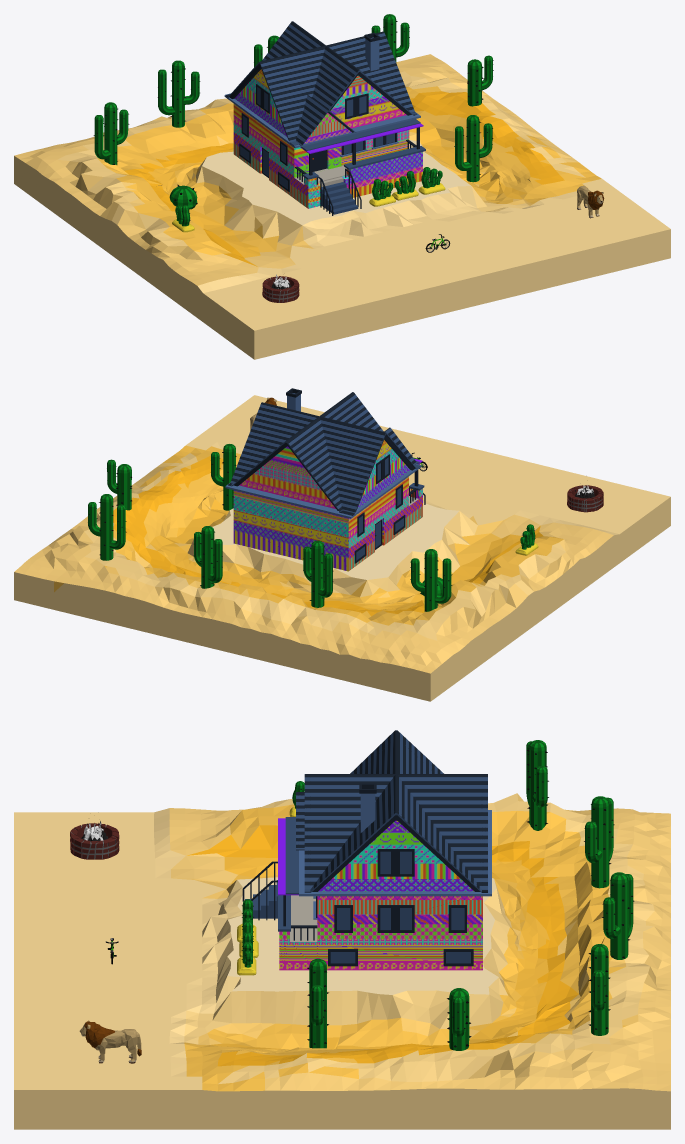
3 views of the same model, one above another, from view 1: azimuth 30°, elevation 25°; view 2: azimuth 150°, elevation 25°; view 3: azimuth 270°, elevation 25° (orthographic). The views are drawn at different scales.
Parts seen in each view (by area): view 1: Cube.001, Cube.676, Cylinder.037, Cylinder.044, Cylinder.045, Cylinder.038, OBJRANDOM_CAMPFIRE, Cylinder.042, ANIMAL_LEON, Cylinder.039, Cylinder.041, Sphere.023 (+1 smaller); view 2: Cube.001, Cube.676, Cylinder.042, Cylinder.045, Cylinder.044, Cylinder.043, Cylinder.037, Cylinder.038, OBJRANDOM_CAMPFIRE; view 3: Cube.001, Cube.676, Cylinder.043, Cylinder.044, Cylinder.045, Cylinder.042, OBJRANDOM_CAMPFIRE, Cylinder.037, ANIMAL_LEON, Cylinder.038, Cylinder.041.
Boxes of the visible parts, left/top/right/bottom form: Cube.001: left=14, top=54, right=670, bottom=359; Cube.676: left=224, top=21, right=425, bottom=215; Cylinder.037: left=454, top=115, right=493, bottom=182; Cylinder.044: left=157, top=60, right=200, bottom=127; Cylinder.045: left=93, top=102, right=129, bottom=164; Cylinder.038: left=467, top=55, right=493, bottom=106; OBJRANDOM_CAMPFIRE: left=262, top=274, right=299, bottom=302; Cylinder.042: left=371, top=14, right=409, bottom=62; ANIMAL_LEON: left=577, top=185, right=604, bottom=218; Cylinder.039: left=369, top=179, right=395, bottom=206; Cylinder.041: left=418, top=167, right=445, bottom=194; Sphere.023: left=169, top=184, right=197, bottom=209; Cube.001: left=14, top=395, right=670, bottom=701; Cube.676: left=225, top=388, right=425, bottom=571; Cylinder.042: left=88, top=494, right=126, bottom=560; Cylinder.045: left=410, top=549, right=452, bottom=611; Cylinder.044: left=303, top=540, right=333, bottom=607; Cylinder.043: left=193, top=526, right=222, bottom=588; Cylinder.037: left=211, top=444, right=240, bottom=510; Cylinder.038: left=107, top=459, right=131, bottom=510; OBJRANDOM_CAMPFIRE: left=567, top=484, right=603, bottom=512; Cube.001: left=14, top=793, right=670, bottom=1129; Cube.676: left=242, top=730, right=491, bottom=970; Cylinder.043: left=602, top=872, right=634, bottom=959; Cylinder.044: left=584, top=796, right=614, bottom=888; Cylinder.045: left=526, top=740, right=548, bottom=830; Cylinder.042: left=588, top=944, right=610, bottom=1035; OBJRANDOM_CAMPFIRE: left=70, top=821, right=119, bottom=859; Cylinder.037: left=307, top=958, right=328, bottom=1048; ANIMAL_LEON: left=79, top=1020, right=141, bottom=1063; Cylinder.038: left=447, top=988, right=471, bottom=1050; Cylinder.041: left=237, top=932, right=256, bottom=975.
Size of the model in its own units: 4002 by 1577 by 4001.
33 materials, 7 textured.
